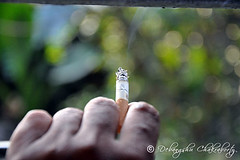cigarette: (111, 66, 134, 134)
